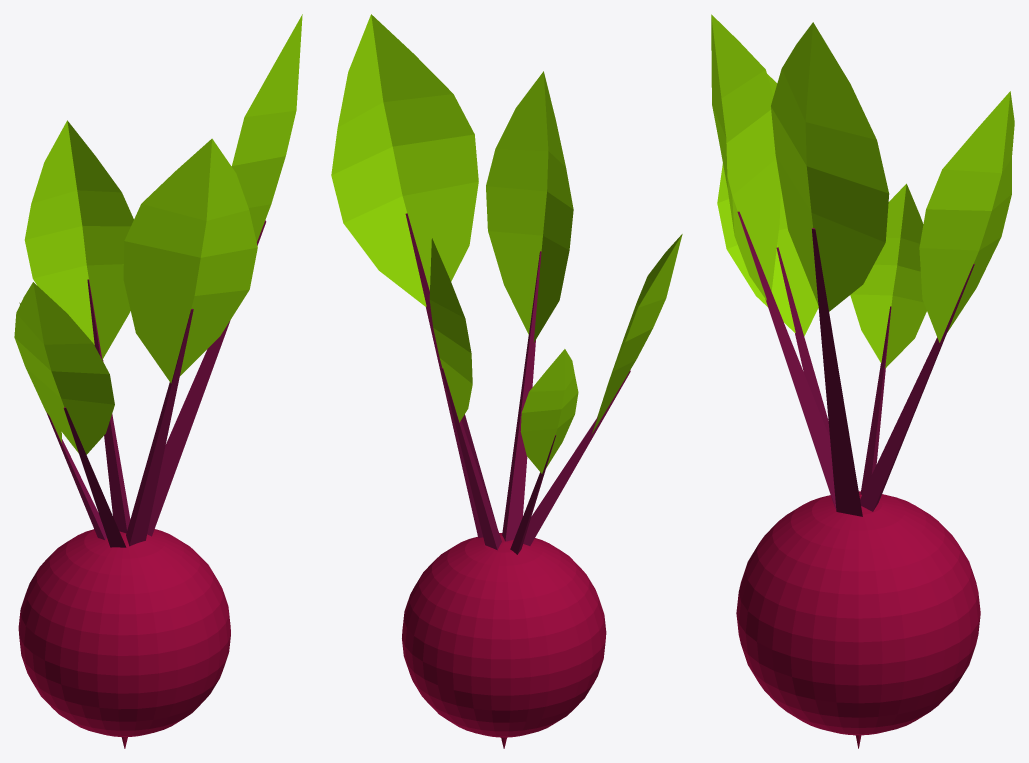
File: beetroot.fbx
3 renders of one model, left to right at view 1: azimuth 30°, elevation 25°; view 2: azimuth 150°, elevation 25°; view 3: azimuth 270°, elevation 25°, orthographic. The views are drawn at different scales.
Visible parts, largest first — view 1: Sphere, Plane.002, Plane.001, Plane.005, Plane.004, Cylinder.004, Cylinder.001, Cylinder.002, Cylinder.005, Cylinder.003; view 2: Sphere, Plane.004, Plane.002, Plane.003, Plane.001, Plane.005, Cylinder.001, Cylinder.002, Cylinder.004, Cylinder.005, Cylinder.003; view 3: Sphere, Plane.004, Plane.001, Plane.002, Plane.003, Cylinder.004, Plane.005, Cylinder.001, Cylinder.002, Cylinder.003, Cylinder.005.
Boxes of the visible parts, bbox=[...] form: Sphere: bbox=[18, 529, 230, 736]; Plane.002: bbox=[123, 138, 257, 383]; Plane.001: bbox=[24, 120, 133, 359]; Plane.005: bbox=[14, 282, 114, 454]; Plane.004: bbox=[231, 14, 302, 242]; Cylinder.004: bbox=[147, 220, 266, 536]; Cylinder.001: bbox=[126, 308, 193, 546]; Cylinder.002: bbox=[87, 279, 130, 533]; Cylinder.005: bbox=[63, 407, 126, 547]; Cylinder.003: bbox=[46, 412, 106, 539]; Sphere: bbox=[402, 533, 606, 737]; Plane.004: bbox=[331, 14, 478, 306]; Plane.002: bbox=[486, 71, 573, 342]; Plane.003: bbox=[520, 349, 578, 473]; Plane.001: bbox=[429, 238, 472, 422]; Plane.005: bbox=[591, 234, 682, 434]; Cylinder.001: bbox=[502, 251, 541, 541]; Cylinder.002: bbox=[441, 368, 501, 550]; Cylinder.004: bbox=[405, 213, 496, 537]; Cylinder.005: bbox=[523, 370, 630, 545]; Cylinder.003: bbox=[510, 435, 555, 554]; Sphere: bbox=[736, 491, 980, 735]; Plane.004: bbox=[771, 22, 889, 311]; Plane.001: bbox=[919, 91, 1014, 342]; Plane.002: bbox=[711, 14, 780, 300]; Plane.003: bbox=[850, 183, 926, 368]; Cylinder.004: bbox=[812, 228, 862, 516]; Plane.005: bbox=[717, 74, 818, 336]; Cylinder.001: bbox=[737, 211, 836, 509]; Cylinder.002: bbox=[860, 264, 974, 511]; Cylinder.003: bbox=[860, 306, 891, 494]; Cylinder.005: bbox=[776, 247, 829, 437].
Size of the model in its own units: 218 by 485 by 164.
